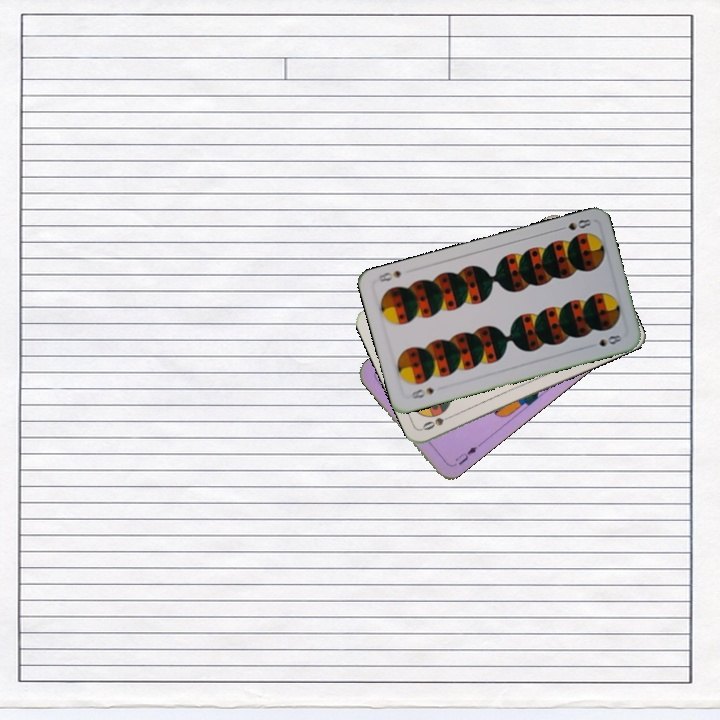EU: (451, 440, 483, 468)
S8: (554, 215, 594, 233), (408, 383, 436, 401)
SO: (418, 410, 457, 433)
